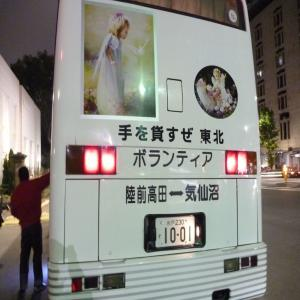Vehicle-registration-plate: (144, 215, 212, 262)
